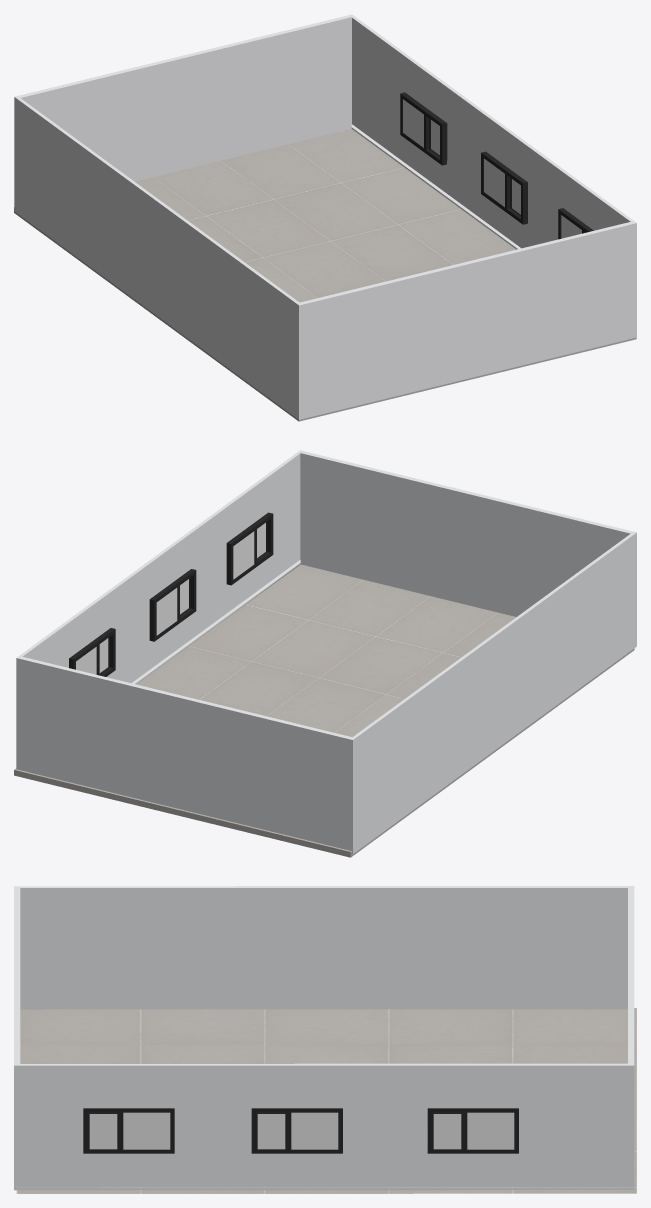
Rendered from runaganFix.fbx.
3 views of the same model, one above another, from view 1: azimuth 30°, elevation 25°; view 2: azimuth 150°, elevation 25°; view 3: azimuth 270°, elevation 25° (orthographic). The views are drawn at different scales.
Visible parts, largest first — view 1: ruanganLabFix, Cube_002__1_, Cube_002__2_, Cube_002__5_; view 2: ruanganLabFix, Cube_002__2_, Cube_002__5_, Cube_002__1_; view 3: ruanganLabFix, Cube_002__1_, Cube_002__2_, Cube_002__5_.
Part boxes in pixels (x1,y1,x2,y2): ruanganLabFix: [14, 14, 636, 421]; Cube_002__1_: [400, 92, 447, 165]; Cube_002__2_: [481, 151, 527, 224]; Cube_002__5_: [558, 208, 593, 239]; ruanganLabFix: [14, 450, 636, 857]; Cube_002__2_: [149, 569, 196, 641]; Cube_002__5_: [226, 512, 273, 585]; Cube_002__1_: [69, 628, 115, 676]; ruanganLabFix: [14, 886, 636, 1193]; Cube_002__1_: [427, 1108, 518, 1153]; Cube_002__2_: [251, 1108, 342, 1153]; Cube_002__5_: [83, 1108, 174, 1153].
Bounding box in the file's own units: 839 × 277 × 1224.
